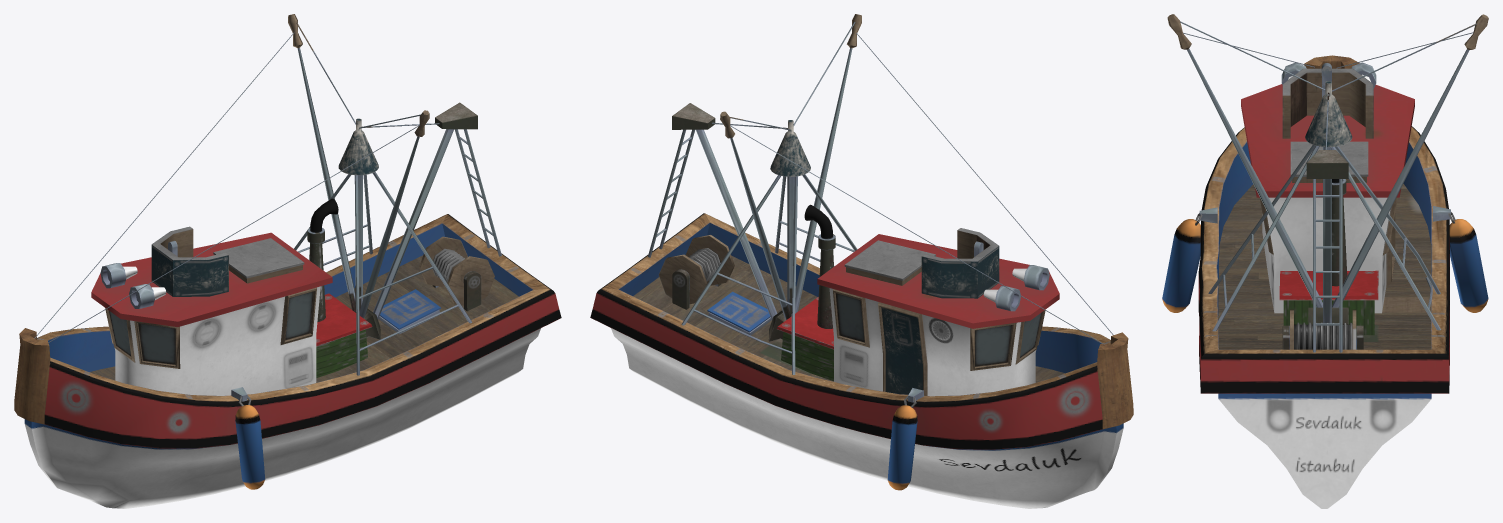
Rendered from boat.obj.
The picture shows the model from 3 angles, left to right: view 1: azimuth 30°, elevation 25°; view 2: azimuth 150°, elevation 25°; view 3: azimuth 270°, elevation 25°; orthographic projection. The views are drawn at different scales.
Parts seen in each view (by area): view 1: Fisher_boat_Mesh; view 2: Fisher_boat_Mesh; view 3: Fisher_boat_Mesh.
Boxes of the visible parts, bbox=[...] form: Fisher_boat_Mesh: bbox=[14, 14, 561, 508]; Fisher_boat_Mesh: bbox=[590, 14, 1133, 508]; Fisher_boat_Mesh: bbox=[1162, 14, 1488, 508].
Size of the model in its own units: 3.08 by 2.34 by 1.51.
